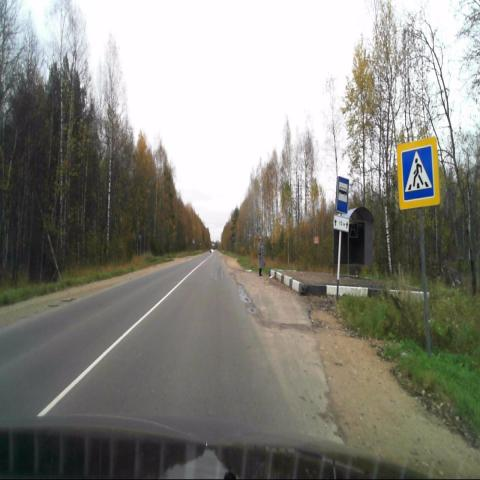8_2_1: (333, 216, 350, 232)
